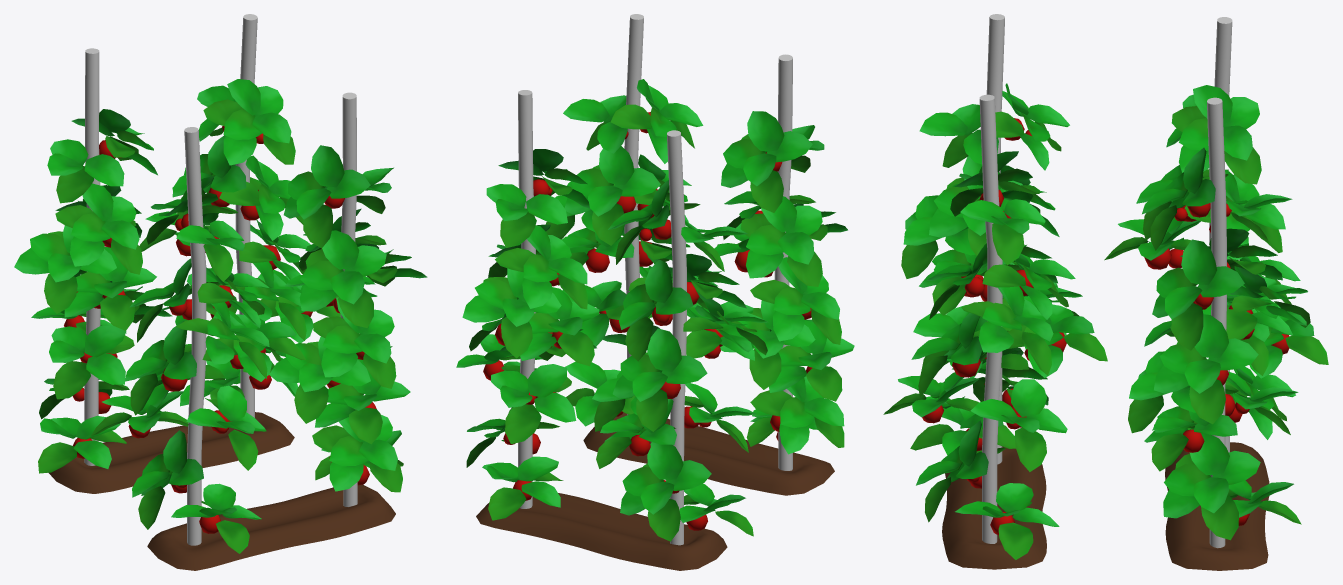
File: Tomato4.fbx
3 renders of one model, left to right at view 1: azimuth 30°, elevation 25°; view 2: azimuth 150°, elevation 25°; view 3: azimuth 270°, elevation 25°, orthographic. The views are drawn at different scales.
Parts seen in each view (by area): view 1: 4; view 2: 4; view 3: 4.
Boxes of the visible parts, bbox=[...] form: 4: bbox=[14, 14, 427, 570]; 4: bbox=[456, 14, 854, 570]; 4: bbox=[883, 14, 1328, 570].
Bounding box in the file's own units: 367 × 470 × 421.
